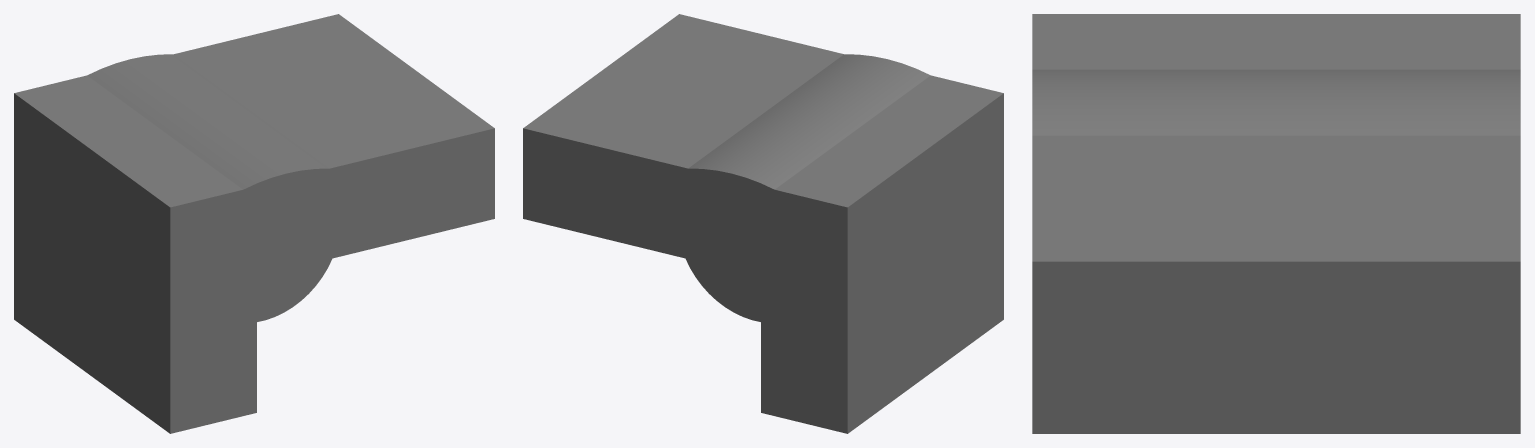
3 views of the same model, side by side, from view 1: azimuth 30°, elevation 25°; view 2: azimuth 150°, elevation 25°; view 3: azimuth 270°, elevation 25° (orthographic). The views are drawn at different scales.
Visible parts, largest first — view 1: mesh_id4, mesh_id5; view 2: mesh_id4, mesh_id5; view 3: mesh_id4, mesh_id5.
Part boxes in pixels (x1,y1,x2,y2): mesh_id4: (14, 14, 494, 433); mesh_id5: (87, 54, 332, 321); mesh_id4: (523, 14, 1003, 433); mesh_id5: (685, 54, 930, 321); mesh_id4: (1032, 14, 1520, 433); mesh_id5: (1032, 69, 1520, 135).
Size of the model in its own units: 0.512 by 0.3499 by 0.4267.
2 materials, 2 textured.
